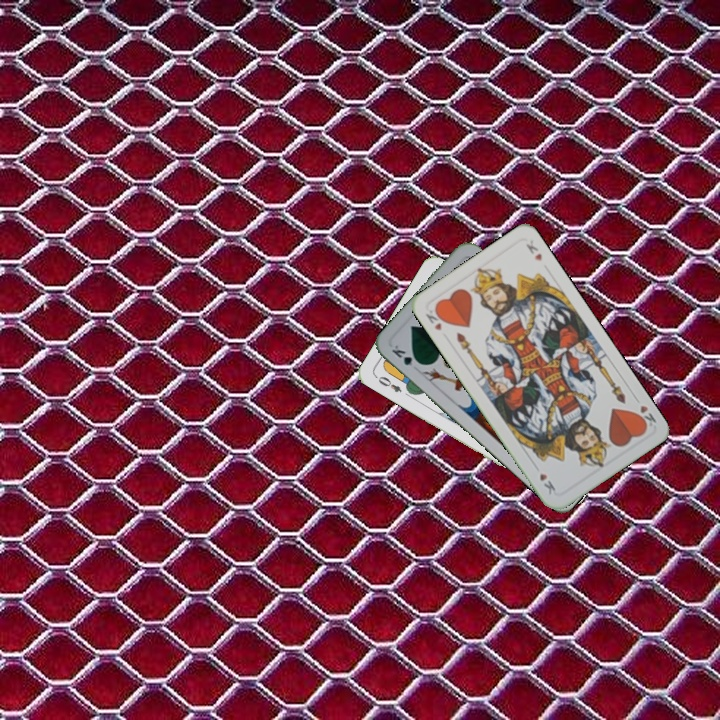EO: (371, 372, 404, 395)
GK: (387, 341, 424, 371)
HK: (630, 392, 659, 432), (421, 304, 448, 333)
